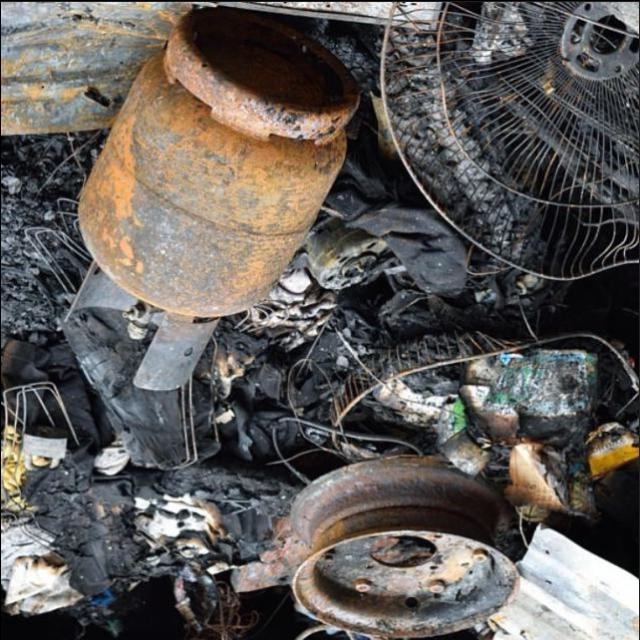cylinder: (62, 6, 359, 390)
